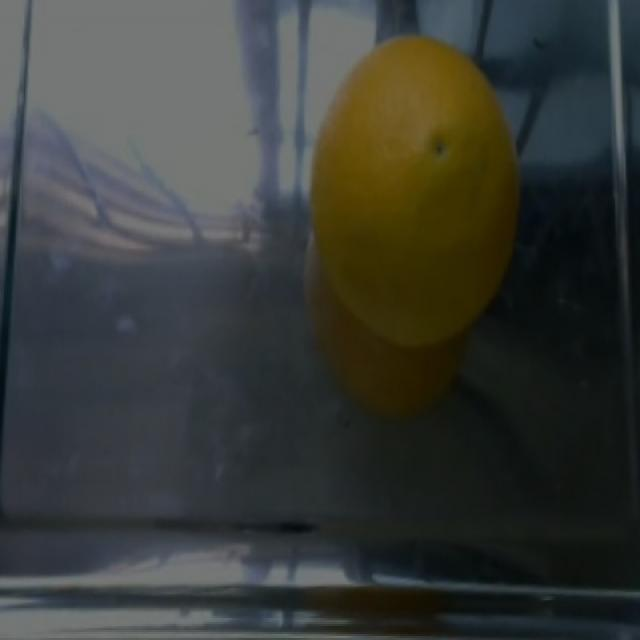Fruit: (290, 20, 526, 364)
